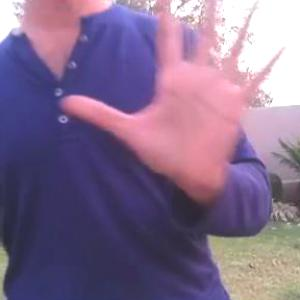follow_hand: (54, 0, 295, 198)
